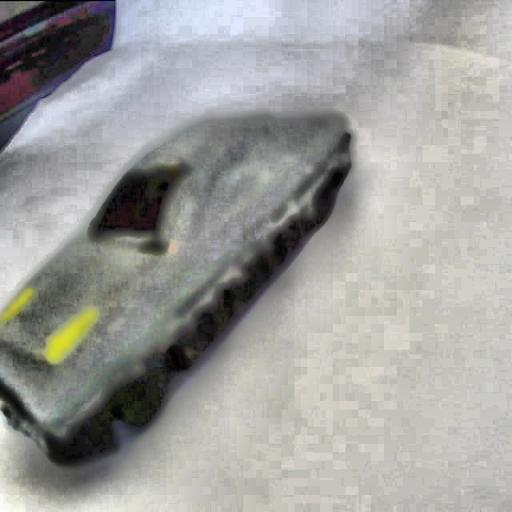normal_car: (0, 110, 351, 467)
